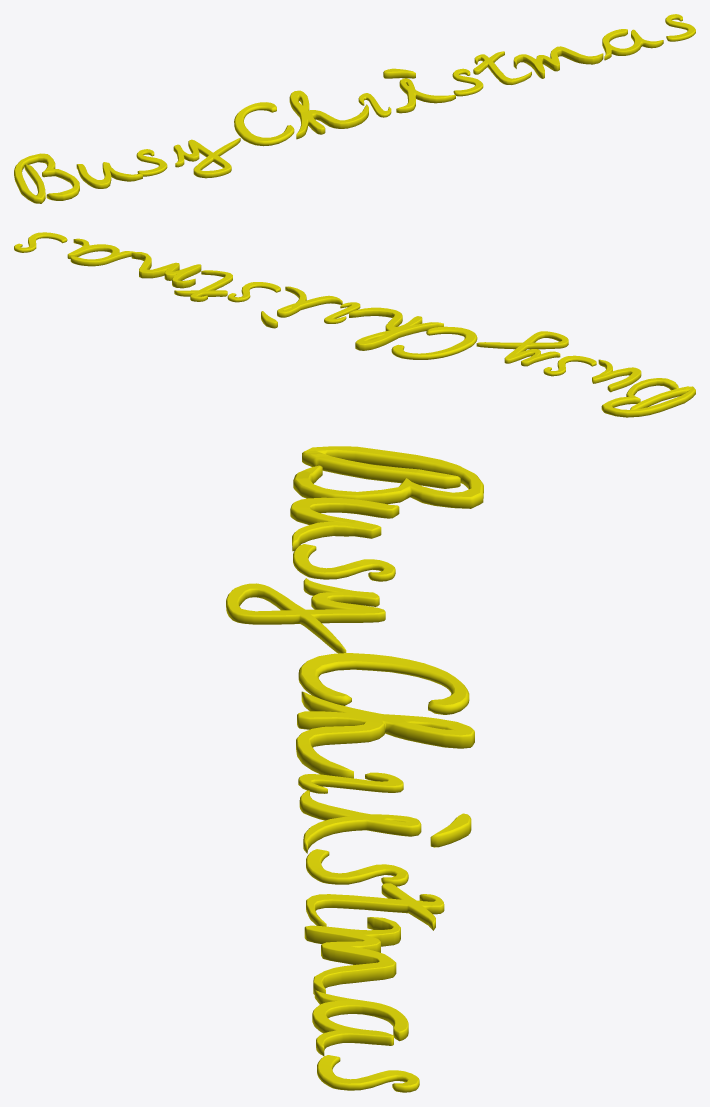
File: title09180354.fbx
3 views of the same model, one above another, from view 1: azimuth 30°, elevation 25°; view 2: azimuth 150°, elevation 25°; view 3: azimuth 270°, elevation 25° (orthographic). The views are drawn at different scales.
Visible parts, largest first — view 1: 平面; view 2: 平面; view 3: 平面.
Boxes of the visible parts, left/top/right/bottom form: 平面: left=14, top=14, right=695, bottom=203; 平面: left=14, top=232, right=695, bottom=417; 平面: left=226, top=446, right=483, bottom=1092.
Bounding box in the file's own units: 0.7538 × 0.0107 × 0.1277.
